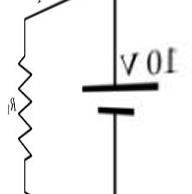resistor: (18, 50, 50, 166)
